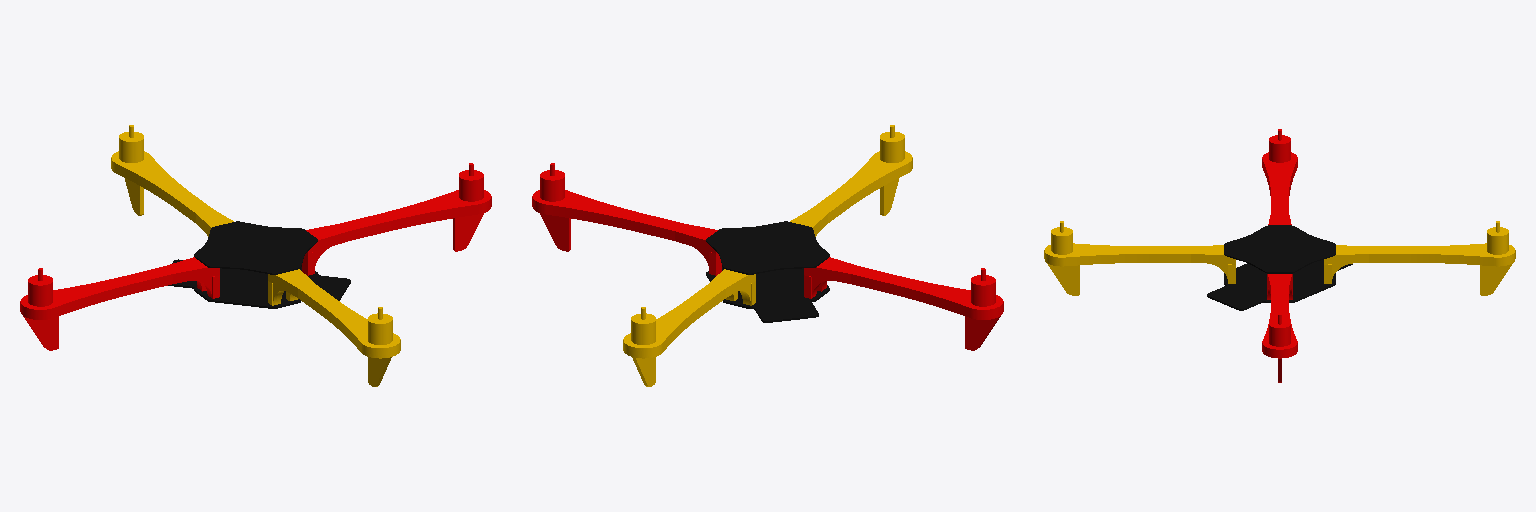
The robot description file, URDF, robot "bee":
<?xml version="1.0"?>
<robot name="bee">
<!-- ==================================================================== -->

  <link name="dummy_link">
    <!-- <inertial>
      <mass value="0.0"/>
      <inertia ixx="0.0" ixy="0.0" ixz="0.0" iyy="0.0" iyz="0.0" izz="0.0"/>
    </inertial> -->
  </link>

  <!-- ==================================================================== -->
  <link name="base_link">
    <origin xyz="0 0 0" rpy="0 0 0"/>
    <inertial>
      <mass value="1.4509320"/>
      <inertia ixx="0.02295" ixy="-0.000081038" ixz="0.0000000231" 
         iyy="0.02295" iyz="0.0000000778" 
         izz="0.04539" />
    </inertial>
    <gravity>true</gravity>
    <visual name="base_link_vis">
      <origin xyz="0 0 0" rpy="0 0 0"/>
      <geometry>
        <mesh filename="package://bee/meshes/drone_base.dae" scale="0.01 0.01 0.01"/>
      </geometry>
    </visual>
<!-- ==================================================================== -->
    <collision name="base_link_collision_0">
      <origin xyz="0 0 -0.0" rpy="0 0 0"/>
      <geometry>
         <mesh filename="package://bee/meshes/drone_base.dae" scale="0.01 0.01 0.01"/>
      </geometry>
    </collision>
  </link>
<!-- ==================================================================== -->
  <gazebo reference="base_link">
    <sensor name="imu_sensor" type="imu">
      <always_on>1</always_on>
      <update_rate>10</update_rate>
      <visualize>true</visualize>
      <topic>imu</topic>
      <ignition_frame_id>base_link</ignition_frame_id>
    </sensor>
  </gazebo>
<!-- ==================================================================== -->
    
  <joint name="fixed_joint" type="fixed">
    <parent link="dummy_link"/>
    <child link="base_link"/>
  </joint>
<!-- ==================================================================== -->
<!-- ==================Rotor1===================== -->
<gazebo>
  <link name="rod_1">
        <pose>0.245 0 0.05 0 0 0</pose>
        <inertial>
          <pose>0 0.0 0 0.0 0.0 0.0</pose>
          <inertia>
            <ixx>0.00000001</ixx>
            <ixy>0.0</ixy>
            <ixz>0.0</ixz>
            <iyy>0.00000001</iyy>
            <iyz>0.0</iyz>
            <izz>0.00000001</izz>
          </inertia>
          <mass>0.001</mass>
        </inertial>
      </link>
      <link name="blade_1">
        <pose>0.245 0 0.07 0.0 0 0</pose>
        <inertial>
          <pose>0 0.0 0 0.0 0.0 0.0</pose>
          <inertia>
            <ixx>6e-7</ixx>
            <ixy>-1e-6</ixy>
            <ixz>1.0e-10</ixz>
            <iyy>3e-5</iyy>
            <iyz>0.0</iyz>
            <izz>3e-5</izz>
          </inertia>
          <mass>0.012</mass>
        </inertial>
        <visual name="visual">
          <geometry>
            <mesh>
              <uri>model:/[local-path]/ros2_ws/src/bee/meshes/propeller_11.75cm.obj</uri>
              <scale>0.01 0.01 0.01</scale>
            </mesh>
          </geometry>
        </visual>
      </link>
      <link name="blade_2">
        <pose>0.245 0 0.07 0.0 0 3.141593</pose>
        <inertial>
          <pose>0 0.0 0 0.0 0.0 0.0</pose>
          <inertia>
            <ixx>6e-7</ixx>
            <ixy>-1e-6</ixy>
            <ixz>1.0e-10</ixz>
            <iyy>3e-5</iyy>
            <iyz>0.0</iyz>
            <izz>3e-5</izz>
          </inertia>
          <mass>0.012</mass>
        </inertial>
      </link>
      <joint name="rod_1_joint" type="revolute">
        <parent>base_link</parent>
        <child>rod_1</child>
        <pose>0.0 0.0 0.0 0.0 0.0 0.0</pose>
        <axis>
          <limit>
            <lower>-1e16</lower>
            <upper>1e16</upper>
          </limit>
          <xyz>0.0 0.0 1.0</xyz>
          <dynamics>
            <damping>0.001</damping>
          </dynamics>
        </axis>
        <physics>
          <ode>
            <cfm_damping>1</cfm_damping>
          </ode>
        </physics>
      </joint>
      <joint name="blade_1_joint" type="fixed">
        <parent>rod_1</parent>
        <child>blade_1</child>
        <pose>0.0 0.0 0.0 0.0 0.0 0.0</pose>
      </joint>
      <joint name="blade_2_joint" type="fixed">
        <parent>rod_1</parent>
        <child>blade_2</child>
        <pose>0.0 0.0 0.0 0.0 0.0 0.0</pose>
      </joint>


      <plugin
        filename="ignition-gazebo-joint-state-publisher-system"
        name="gz::sim::systems::JointStatePublisher"></plugin>

      <plugin
        filename="ignition-gazebo-lift-drag-system"
        name="gz::sim::systems::LiftDrag">
        <a0>0.1</a0>
        <cla>0.1</cla>
        <cda>0.001</cda>
        <cma>0.0</cma>
        <cp>0.0 0.5 0</cp>
        <area>0.0109</area>
        <air_density>1.2041</air_density>
        <forward>1 0 0</forward>
        <upward>0 0 -1</upward>
        <link_name>blade_1</link_name>
      </plugin>
      <plugin
        filename="ignition-gazebo-lift-drag-system"
        name="gz::sim::systems::LiftDrag">
        <a0>0.1</a0>
        <cla>0.1</cla>
        <cda>0.001</cda>
        <cma>0.0</cma>
        <cp>0.0 0.5 0</cp>
        <area>0.0109</area>
        <air_density>1.2041</air_density>
        <forward>1 0 0</forward>
        <upward>0 0 -1</upward>
        <link_name>blade_2</link_name>
      </plugin>
      <plugin
        filename="ignition-gazebo-apply-joint-force-system"
        name="gz::sim::systems::ApplyJointForce">
        <joint_name>rod_1_joint</joint_name>
      </plugin>
  </gazebo>
  <!-- ===========================Rotor 2=========================== -->
  <gazebo>
    <link name="rod_2">
      <pose>-0.245 0 0.05 0 0 0</pose>
      <inertial>
          <pose>0 0.0 0 0.0 0.0 0.0</pose>
          <inertia>
            <ixx>0.00000001</ixx>
            <ixy>0.0</ixy>
            <ixz>0.0</ixz>
            <iyy>0.00000001</iyy>
            <iyz>0.0</iyz>
            <izz>0.00000001</izz>
          </inertia>
          <mass>0.001</mass>
        </inertial>
    </link>

    <link name="blade_3">
      <pose>-0.245 0 0.07 0.0 0 0</pose>
      <inertial>
        <pose>0 0.0 0 0.0 0.0 0.0</pose>
        <inertia>
          <ixx>6e-7</ixx>
          <ixy>-1.6e-6</ixy>
          <ixz>1.0e-10</ixz>
          <iyy>3e-5</iyy>
          <iyz>0.0</iyz>
          <izz>3e-5</izz>
        </inertia>
        <mass>0.012</mass>
      </inertial>
      <visual name="visual">
        <geometry>
          <mesh>
            <uri>model:/[local-path]/ros2_ws/src/bee/meshes/propeller_11.75cm.obj</uri>
            <scale>0.01 0.01 0.01</scale>
          </mesh>
        </geometry>
      </visual>
    </link>
    <link name="blade_4">
      <pose>-0.245 0 0.07 0.0 0 3.141593</pose>
      <inertial>
        <pose>0 0.0 0 0.0 0.0 0.0</pose>
        <inertia>
          <ixx>6e-7</ixx>
          <ixy>-1.6e-6</ixy>
          <ixz>1.0e-10</ixz>
          <iyy>3e-5</iyy>
          <iyz>0.0</iyz>
          <izz>3e-5</izz>
        </inertia>
        <mass>0.012</mass>
      </inertial>
    </link>

    <joint name="rod_2_joint" type="revolute">
      <parent>base_link</parent>
      <child>rod_2</child>
      <pose>0.0 0.0 0.0 0.0 0.0 0.0</pose>
      <axis>
        <limit>
          <lower>-1e16</lower>
          <upper>1e16</upper>
        </limit>
        <xyz>0.0 0.0 1.0</xyz>
        <dynamics>
          <damping>0.001</damping>
        </dynamics>
      </axis>
      <physics>
        <ode>
          <cfm_damping>1</cfm_damping>
        </ode>
      </physics>
    </joint>
    <joint name="blade_3_joint" type="fixed">
      <parent>rod_2</parent>
      <child>blade_3</child>
      <pose>0.0 0.0 0.0 0.0 0.0 0.0</pose>
    </joint>
    <joint name="blade_4_joint" type="fixed">
      <parent>rod_2</parent>
      <child>blade_4</child>
      <pose>0.0 0.0 0.0 0.0 0.0 0.0</pose>
    </joint>


    <plugin
      filename="ignition-gazebo-joint-state-publisher-system"
      name="gz::sim::systems::JointStatePublisher"></plugin>

    <plugin
      filename="ignition-gazebo-lift-drag-system"
      name="gz::sim::systems::LiftDrag">
      <a0>0.1</a0>
      <cla>0.1</cla>
      <cda>0.001</cda>
      <cma>0.0</cma>
      <cp>0.0 0.5 0</cp>
      <area>0.0109</area>
      <air_density>1.2041</air_density>
      <forward>1 0 0</forward>
      <upward>0 0 -1</upward>
      <link_name>blade_3</link_name>
    </plugin>
    <plugin
      filename="ignition-gazebo-lift-drag-system"
      name="gz::sim::systems::LiftDrag">
      <a0>0.1</a0>
      <cla>0.1</cla>
      <cda>0.001</cda>
      <cma>0.0</cma>
      <cp>0.0 0.5 0</cp>
      <area>0.0109</area>
      <air_density>1.2041</air_density>
      <forward>1 0 0</forward>
      <upward>0 0 -1</upward>
      <link_name>blade_4</link_name>
    </plugin>
    <plugin
      filename="ignition-gazebo-apply-joint-force-system"
      name="gz::sim::systems::ApplyJointForce">
      <joint_name>rod_2_joint</joint_name>
    </plugin>
  </gazebo>
<!-- ======================== Rotor 3 ========================== -->
  <gazebo>
    <link name="rod_3">
      <pose>0.0 0.245 0.05 0 0 0</pose>
      <inertial>
        <pose>0 0.0 0 0.0 0.0 0.0</pose>
        <inertia>
          <ixx>0.00000001</ixx>
          <ixy>0.0</ixy>
          <ixz>0.0</ixz>
          <iyy>0.00000001</iyy>
          <iyz>0.0</iyz>
          <izz>0.00000001</izz>
        </inertia>
        <mass>0.001</mass>
      </inertial>
    </link>

    <link name="blade_5">
      <pose>-0.0 0.245 0.07 0.0 0 0</pose>
      <inertial>
        <pose>0 0.0 0 0.0 0.0 0.0</pose>
        <inertia>
          <ixx>6e-7</ixx>
          <ixy>-1.6e-6</ixy>
          <ixz>1.0e-10</ixz>
          <iyy>3e-5</iyy>
          <iyz>0.0</iyz>
          <izz>3e-5</izz>
        </inertia>
        <mass>0.012</mass>
      </inertial>
      <visual name="visual">
        <geometry>
          <mesh>
            <uri>model:/[local-path]/ros2_ws/src/bee/meshes/propeller_11.75cm.obj</uri>
            <scale>0.01 0.01 0.01</scale>
          </mesh>
        </geometry>
      </visual>
    </link>
    <link name="blade_6">
      <pose>-0.0 0.245 0.07 0.0 0 3.141593</pose>
      <inertial>
      <pose>0 0.0 0 0.0 0.0 0.0</pose>
      <inertia>
        <ixx>6e-7</ixx>
        <ixy>-1e-6</ixy>
        <ixz>1.0e-10</ixz>
        <iyy>3e-5</iyy>
        <iyz>0.0</iyz>
        <izz>3e-5</izz>
      </inertia>
      <mass>0.012</mass>
    </inertial>
    </link>

    <joint name="rod_3_joint" type="revolute">
      <parent>base_link</parent>
      <child>rod_3</child>
      <pose>0.0 0.0 0.0 0.0 0.0 0.0</pose>
      <axis>
        <limit>
          <lower>-1e16</lower>
          <upper>1e16</upper>
        </limit>
        <xyz>0.0 0.0 -1.0</xyz>
        <dynamics>
          <damping>0.001</damping>
        </dynamics>
      </axis>
      <physics>
        <ode>
          <cfm_damping>1</cfm_damping>
        </ode>
      </physics>
    </joint>
    <joint name="blade_5_joint" type="fixed">
      <parent>rod_3</parent>
      <child>blade_5</child>
      <pose>0.0 0.0 0.0 0.0 0.0 0.0</pose>
    </joint>
    <joint name="blade_6_joint" type="fixed">
      <parent>rod_3</parent>
      <child>blade_6</child>
      <pose>0.0 0.0 0.0 0.0 0.0 0.0</pose>
    </joint>


    <plugin
      filename="ignition-gazebo-joint-state-publisher-system"
      name="gz::sim::systems::JointStatePublisher"></plugin>

    <plugin
      filename="ignition-gazebo-lift-drag-system"
      name="gz::sim::systems::LiftDrag">
      <a0>0.1</a0>
      <cla>0.1</cla>
      <cda>0.001</cda>
      <cma>0.0</cma>
      <cp>0.0 0.5 0</cp>
      <area>0.0109</area>
      <air_density>1.2041</air_density>
      <forward>1 0 0</forward>
      <upward>0 0 1</upward>
      <link_name>blade_5</link_name>
    </plugin>
    <plugin
      filename="ignition-gazebo-lift-drag-system"
      name="gz::sim::systems::LiftDrag">
      <a0>0.1</a0>
      <cla>0.1</cla>
      <cda>0.001</cda>
      <cma>0.0</cma>
      <cp>0.0 0.5 0</cp>
      <area>0.0109</area>
      <air_density>1.2041</air_density>
      <forward>1 0 0</forward>
      <upward>0 0 1</upward>
      <link_name>blade_6</link_name>
    </plugin>
    <plugin
      filename="ignition-gazebo-apply-joint-force-system"
      name="gz::sim::systems::ApplyJointForce">
      <joint_name>rod_3_joint</joint_name>
    </plugin>
  </gazebo>
  <!-- ======================== Rotor 4 ========================== -->
  <gazebo>
    <link name="rod_4">
      <pose>0.0 -0.245 0.05 0 0 0</pose>
      <inertial>
        <pose>0 0.0 0 0.0 0.0 0.0</pose>
        <inertia>
          <ixx>0.00000001</ixx>
          <ixy>0.0</ixy>
          <ixz>0.0</ixz>
          <iyy>0.00000001</iyy>
          <iyz>0.0</iyz>
          <izz>0.00000001</izz>
        </inertia>
        <mass>0.001</mass>
      </inertial>
    </link>

    <link name="blade_7">
      <pose>-0.0 -0.245 0.07 0.0 0 0</pose>
      <inertial>
        <pose>0 0.0 0 0.0 0.0 0.0</pose>
        <inertia>
          <ixx>6e-7</ixx>
          <ixy>-1.6e-6</ixy>
          <ixz>1.0e-10</ixz>
          <iyy>3e-5</iyy>
          <iyz>0.0</iyz>
          <izz>3e-5</izz>
        </inertia>
        <mass>0.012</mass>
      </inertial>
      <visual name="visual">
        <geometry>
          <mesh>
            <uri>model:/[local-path]/ros2_ws/src/bee/meshes/propeller_11.75cm.obj</uri>
            <scale>0.01 0.01 0.01</scale>
          </mesh>
        </geometry>
      </visual>
    </link>
    <link name="blade_8">
      <pose>0.0 -0.245 0.07 0.0 0 3.141593</pose>
      <inertial>
        <pose>0 0.0 0 0.0 0.0 0.0</pose>
        <inertia>
          <ixx>6e-7</ixx>
          <ixy>-1.6e-6</ixy>
          <ixz>1.0e-10</ixz>
          <iyy>3e-5</iyy>
          <iyz>0.0</iyz>
          <izz>3e-5</izz>
        </inertia>
        <mass>0.012</mass>
      </inertial>
    </link>

    <joint name="rod_4_joint" type="revolute">
      <parent>base_link</parent>
      <child>rod_4</child>
      <pose>0.0 0.0 0.0 0.0 0.0 0.0</pose>
      <axis>
        <limit>
          <lower>-1e16</lower>
          <upper>1e16</upper>
        </limit>
        <xyz>0.0 0.0 -1.0</xyz>
        <dynamics>
          <damping>0.001</damping>
        </dynamics>
      </axis>
      <physics>
        <ode>
          <cfm_damping>1</cfm_damping>
        </ode>
      </physics>
    </joint>
    <joint name="blade_7_joint" type="fixed">
      <parent>rod_4</parent>
      <child>blade_7</child>
      <pose>0.0 0.0 0.0 0.0 0.0 0.0</pose>
    </joint>
    <joint name="blade_8_joint" type="fixed">
      <parent>rod_4</parent>
      <child>blade_8</child>
      <pose>0.0 0.0 0.0 0.0 0.0 0.0</pose>
    </joint>


    <plugin
      filename="ignition-gazebo-joint-state-publisher-system"
      name="gz::sim::systems::JointStatePublisher"></plugin>

    <plugin
      filename="ignition-gazebo-lift-drag-system"
      name="gz::sim::systems::LiftDrag">
      <a0>0.1</a0>
      <cla>0.1</cla>
      <cda>0.001</cda>
      <cma>0.0</cma>
      <cp>0.0 0.5 0</cp>
      <area>0.0109</area>
      <air_density>1.2041</air_density>
      <forward>1 0 0</forward>
      <upward>0 0 1</upward>
      <link_name>blade_7</link_name>
    </plugin>
    <plugin
      filename="ignition-gazebo-lift-drag-system"
      name="gz::sim::systems::LiftDrag">
      <a0>0.1</a0>
      <cla>0.1</cla>
      <cda>0.001</cda>
      <cma>0.0</cma>
      <cp>0.0 0.5 0</cp>
      <area>0.0109</area>
      <air_density>1.2041</air_density>
      <forward>1 0 0</forward>
      <upward>0 0 1</upward>
      <link_name>blade_8</link_name>
    </plugin>
    <plugin
      filename="ignition-gazebo-apply-joint-force-system"
      name="gz::sim::systems::ApplyJointForce">
      <joint_name>rod_4_joint</joint_name>
      <!-- <topic>rod_4</topic> -->
    </plugin>
    <plugin filename="ignition-gazebo-linearbatteryplugin-system"
        name="gz::sim::systems::LinearBatteryPlugin">
        <!--Li-ion battery spec from LIR18650 datasheet-->
        <battery_name>linear_battery</battery_name>
        <voltage>4.2</voltage>
        <open_circuit_voltage_constant_coef>4.2</open_circuit_voltage_constant_coef>
        <open_circuit_voltage_linear_coef>-2.0</open_circuit_voltage_linear_coef>
        <initial_charge>2.5</initial_charge>
        <capacity>2.5 </capacity>
        <resistance>0.07</resistance>
        <smooth_current_tau>2.0</smooth_current_tau>
        <enable_recharge>true</enable_recharge>
        <!-- charging I = c / t, discharging I = P / V,
          charging I should be > discharging I -->
        <charging_time>3.0</charging_time>
        <!-- Consumer-specific -->
        <power_load>2.1</power_load>
        <start_on_motion>true</start_on_motion>
      </plugin>
      <plugin filename="libignition-gazebo6-odometry-publisher-system"
          name="ignition::gazebo::systems::OdometryPublisher">
          <odom_frame>odom</odom_frame>
          <robot_base_frame>base_link</robot_base_frame>
          <odom_topic>odom</odom_topic>
          <tf_topic>/tf</tf_topic>
          <dimensions>3</dimensions>
          <odom_publish_frequency>10</odom_publish_frequency>
      </plugin>
  </gazebo>
</robot>

--- What the picture shows (computed from the rendered views, not written in the file) ---
The picture shows the robot from 3 angles, left to right: view 1: azimuth 30°, elevation 25°; view 2: azimuth 150°, elevation 25°; view 3: azimuth 270°, elevation 25°; orthographic projection.
Robot: bee — 2 links, 1 joints (1 fixed); root link dummy_link; default pose: every joint at zero.
Visible links, largest first — view 1: base_link; view 2: base_link; view 3: base_link.
Boxes of the visible links, left/top/right/bottom form: base_link: left=20, top=125, right=491, bottom=386; base_link: left=532, top=125, right=1003, bottom=386; base_link: left=1044, top=129, right=1515, bottom=382.
Bounding box of the posed robot: 0.53 × 0.53 × 0.0905 m (x, y, z).
1 mesh visuals loaded from 1 distinct referenced files (1 Collada DAE).